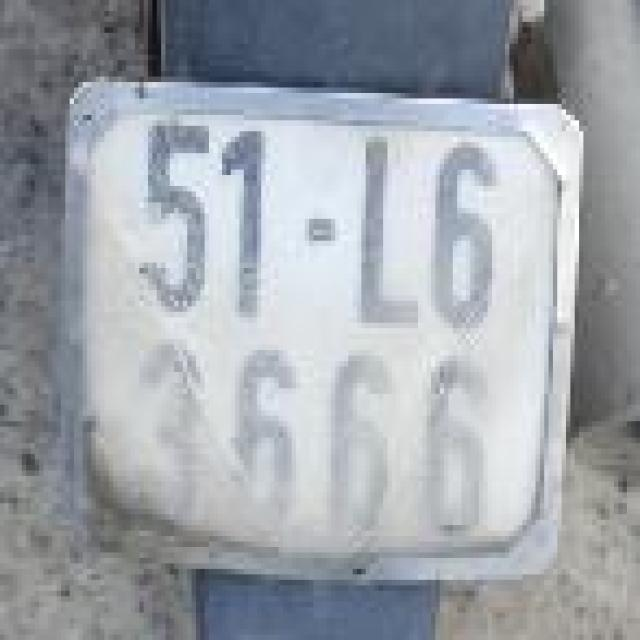1: (222, 112, 274, 331)
3: (122, 331, 213, 555)
5: (139, 115, 218, 323)
6: (318, 326, 405, 555), (218, 350, 314, 547), (409, 353, 501, 544), (422, 125, 501, 334)
L: (333, 126, 425, 339)
